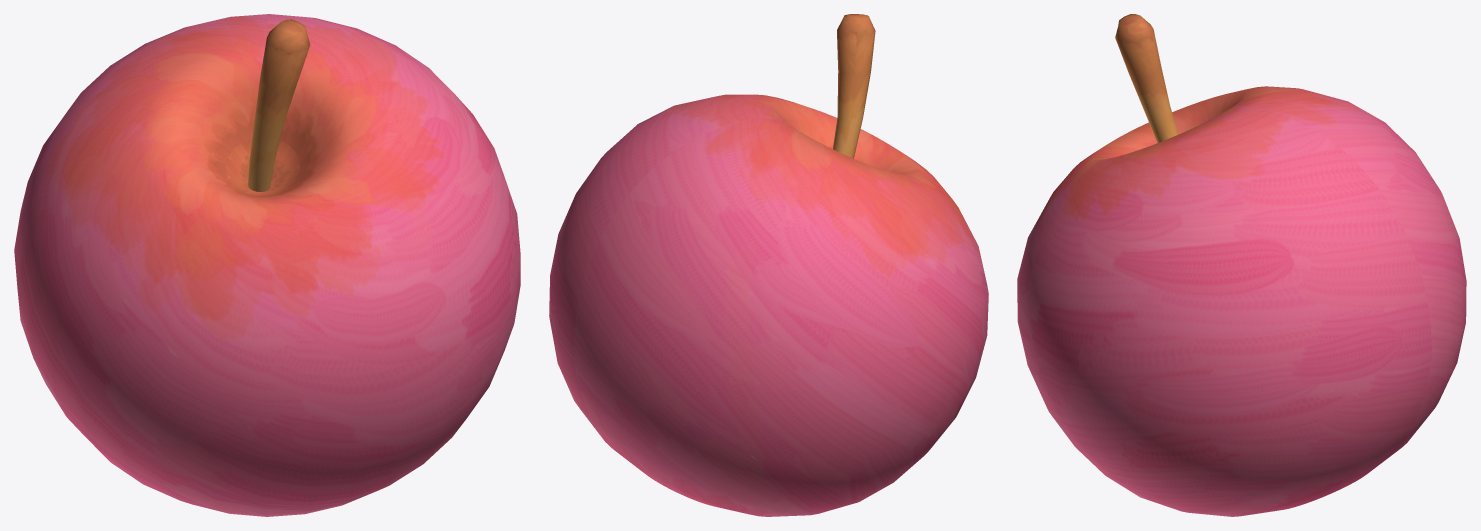
File: AppleTest.fbx
3 views of the same model, side by side, from view 1: azimuth 30°, elevation 25°; view 2: azimuth 150°, elevation 25°; view 3: azimuth 270°, elevation 25° (orthographic). The views are drawn at different scales.
Visible parts, largest first — view 1: Apple; view 2: Apple; view 3: Apple.
Boxes of the visible parts, <box> form: Apple: <box>14,14,520,516</box>; Apple: <box>549,14,988,516</box>; Apple: <box>1017,14,1466,516</box>.
Bounding box in the file's own units: 268 × 304 × 268.
